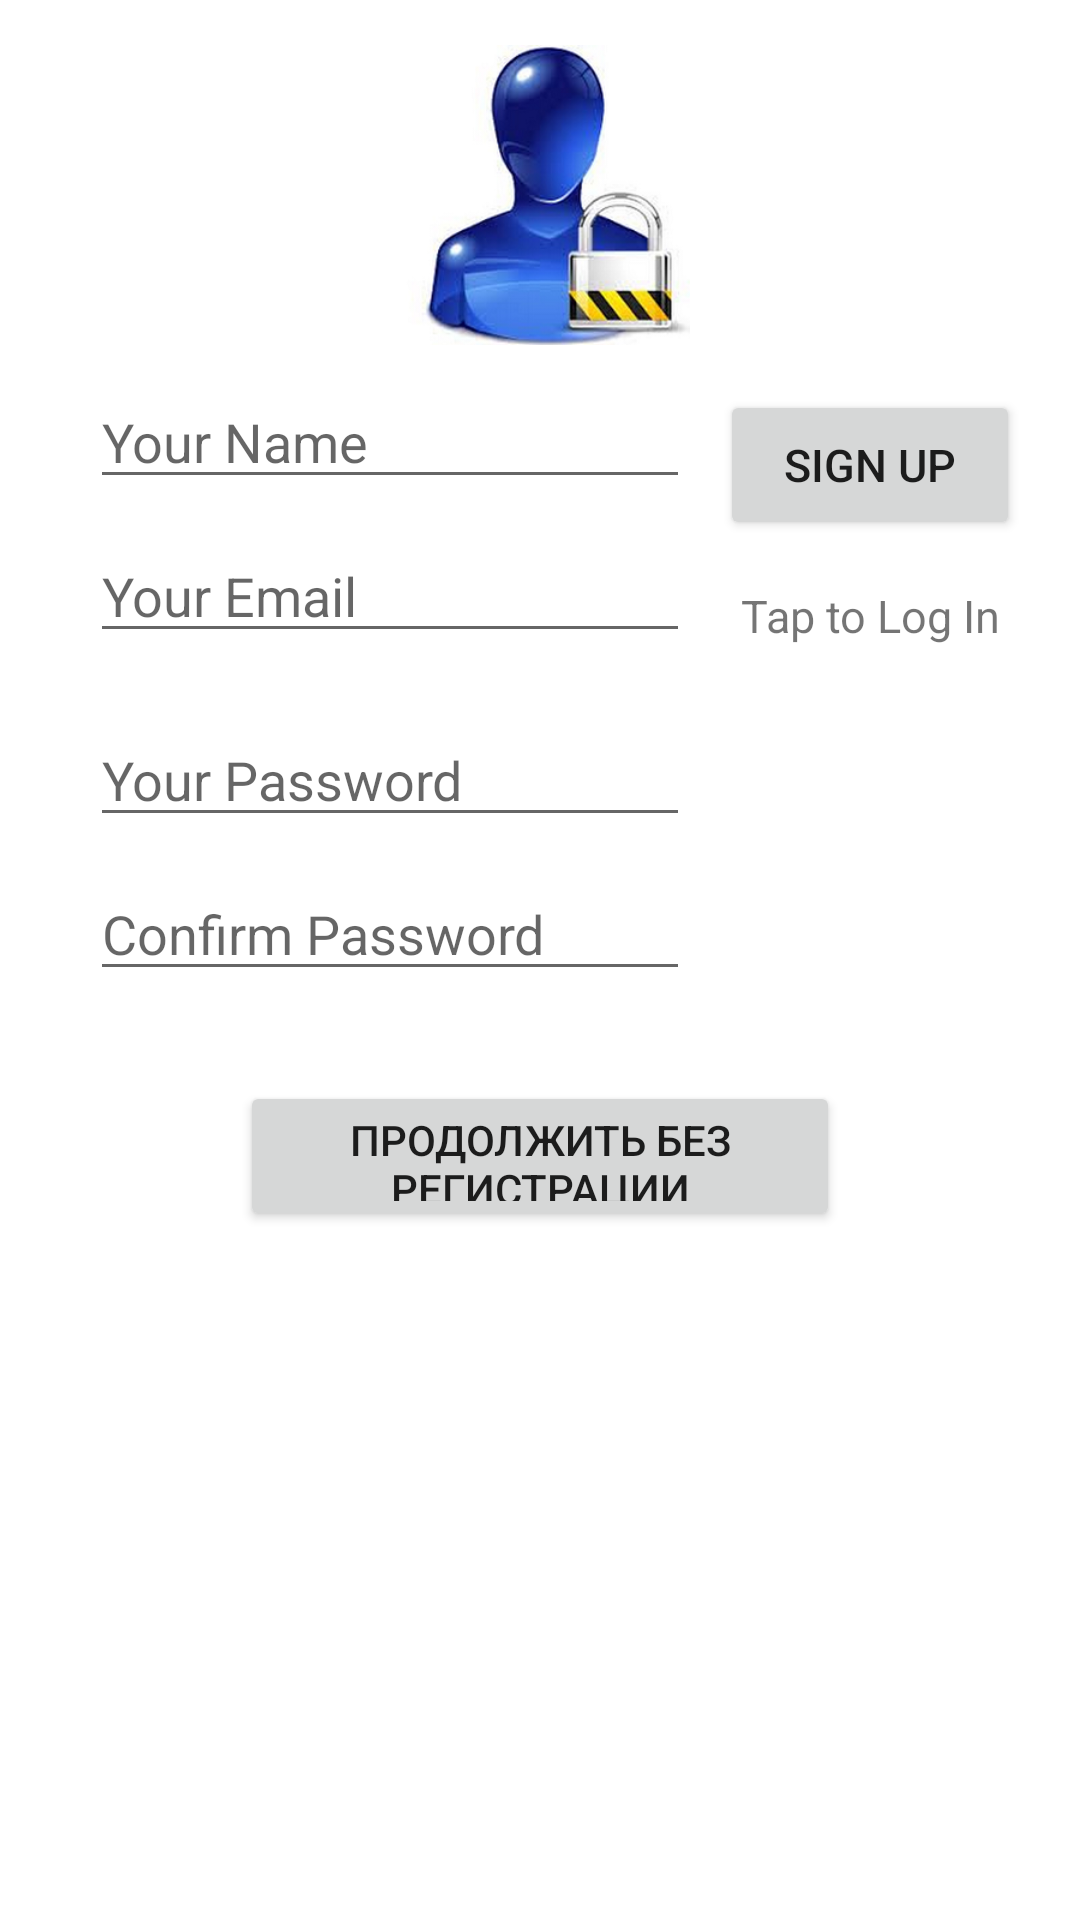

Icon bounding boxes for this 1080px x 1920px phone screenshot, format (x1, y1, x2, y2):
auth: (426, 47, 684, 345)
